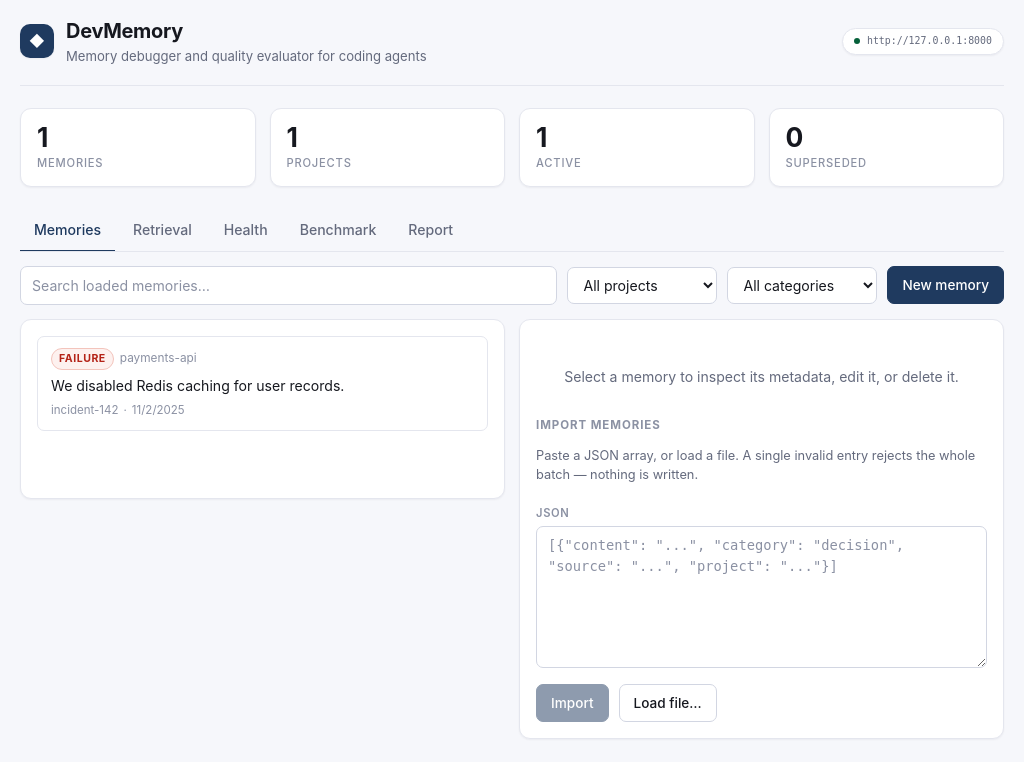
Test: inspector report › compares keyword and semantic metrics side by side
The image size is (1024, 762).
Check: the text "We disabled Redis caching for user records." is shown, box [51,377,344,394]
Step 1. Click the tab "Report" → (431,230), box [394,208,467,252]
(page scrolled)
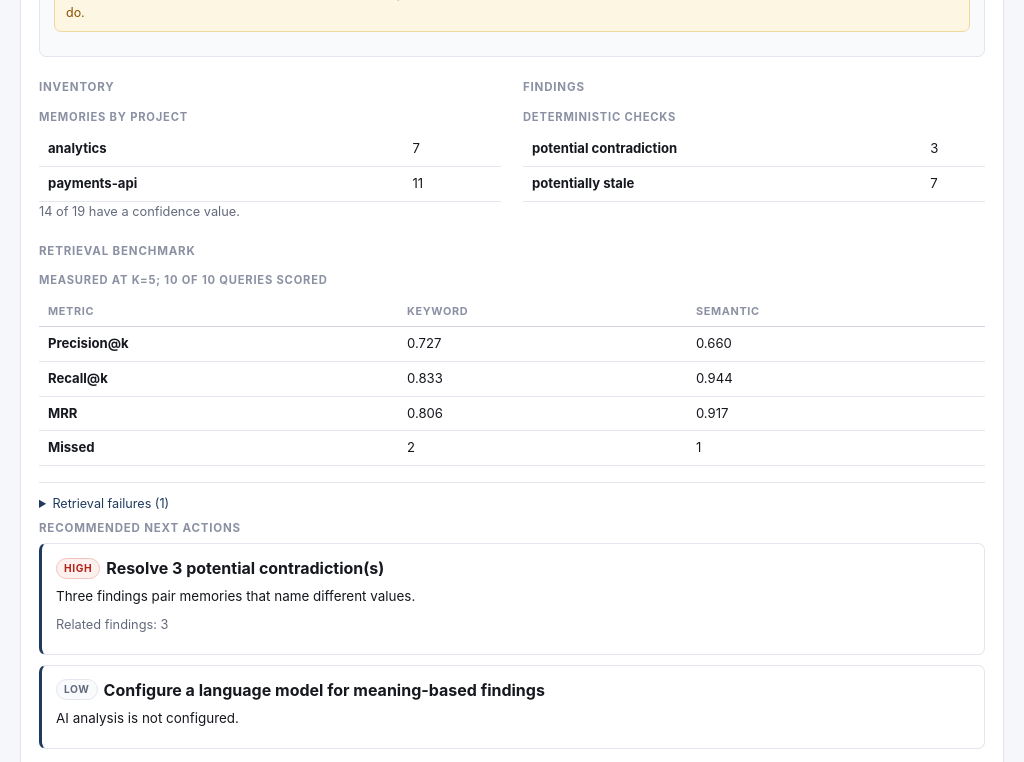
Check: the text "0.727" is shown, box [398,327,687,362]
Check: the text "0.660" is shown, box [687,327,985,362]
Check: the text "0.944" is shown, box [687,362,985,396]
